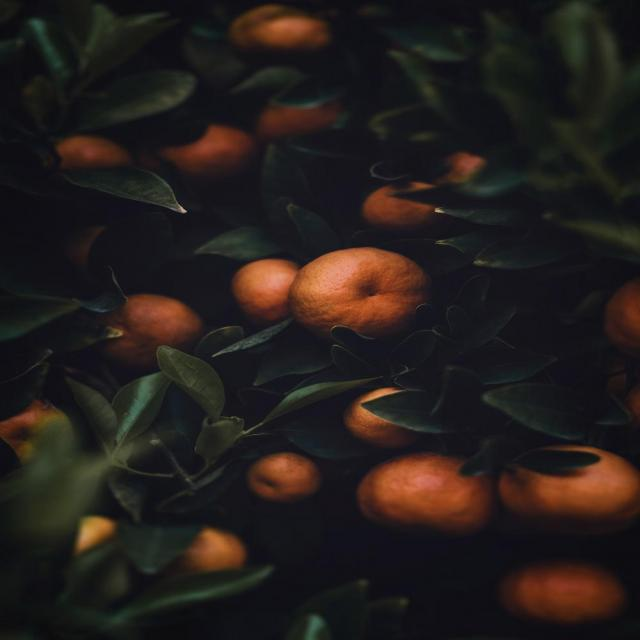Jeruk Sudah Matang: (496, 443, 640, 532), (296, 248, 430, 337), (356, 453, 493, 533), (102, 292, 205, 364), (230, 256, 306, 326), (245, 452, 328, 504)
